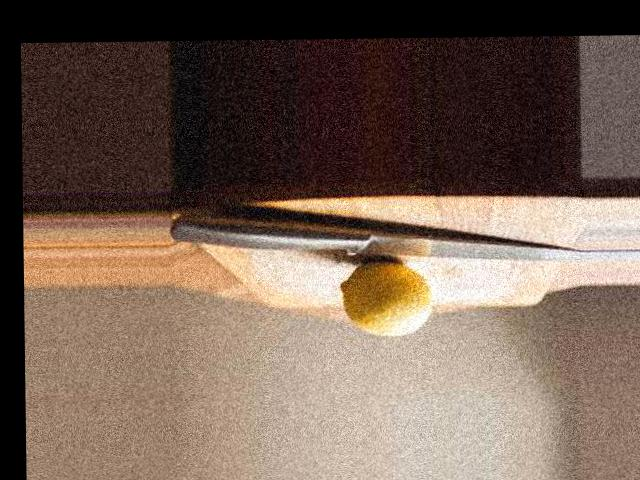lemon: (334, 260, 444, 341)
